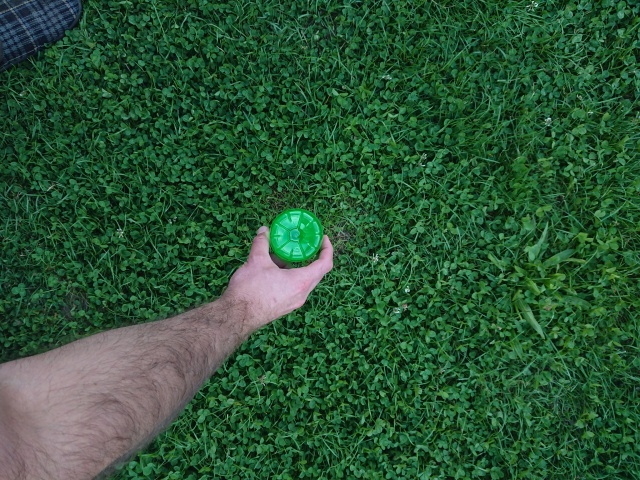Vindi Iso Sport Lemon-Grapefruit 500mL: (266, 205, 326, 265)
